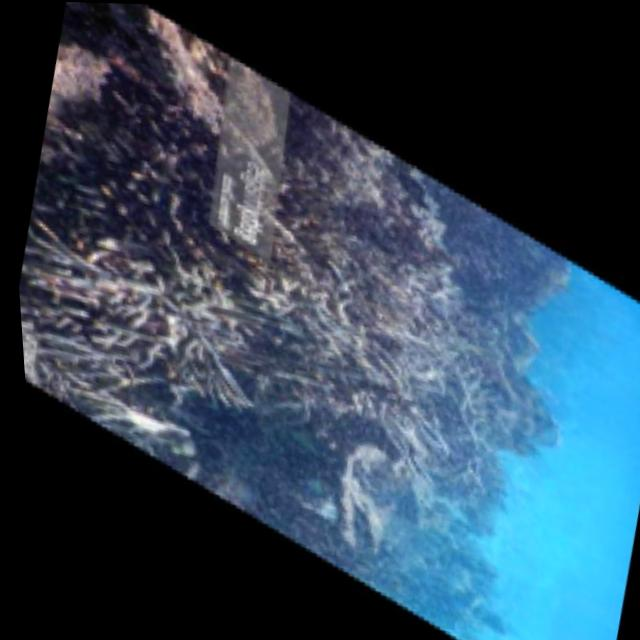Dead Coral: (211, 203, 510, 534), (5, 93, 243, 407)
